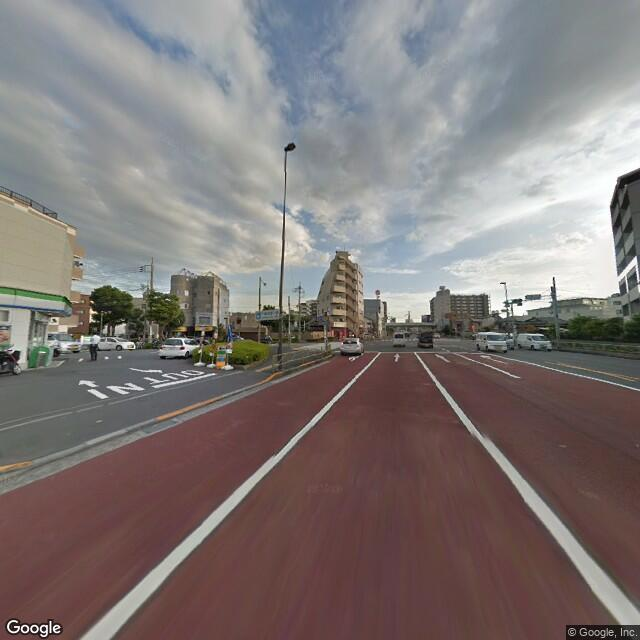family_mart: (1, 284, 74, 318)
